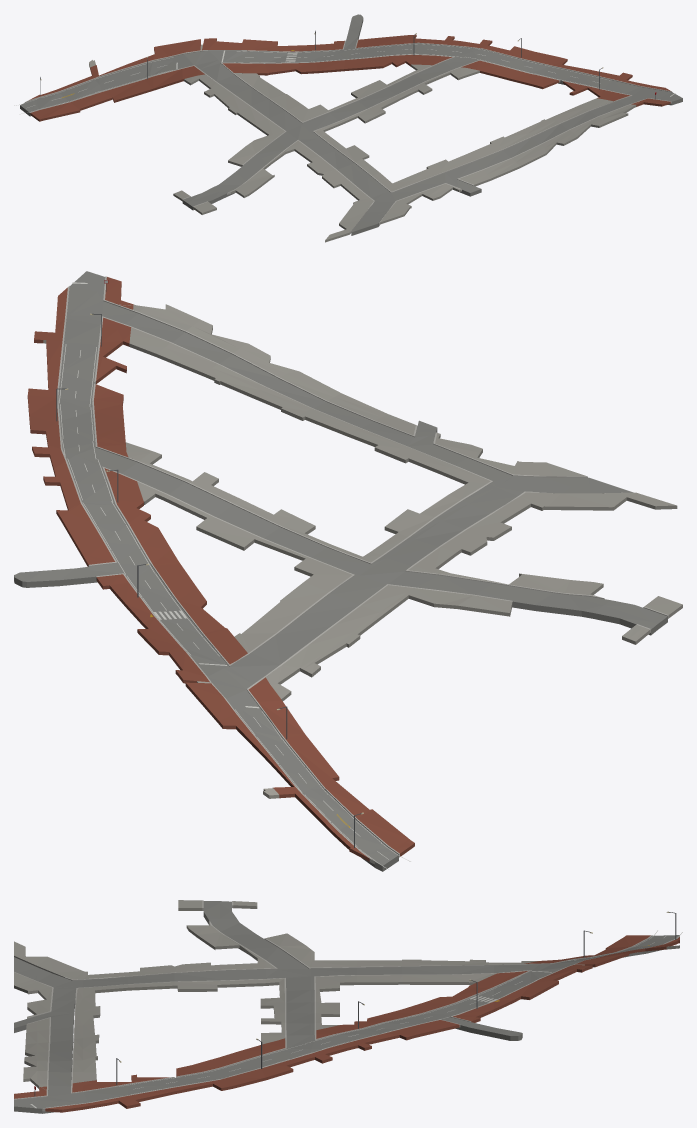
3 views of the same model, one above another, from view 1: azimuth 30°, elevation 25°; view 2: azimuth 150°, elevation 25°; view 3: azimuth 270°, elevation 25° (orthographic). The views are drawn at different scales.
Bounding box in the file's own units: 150 × 32.53 × 146.
